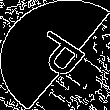P_SE: (20, 25, 90, 85)
